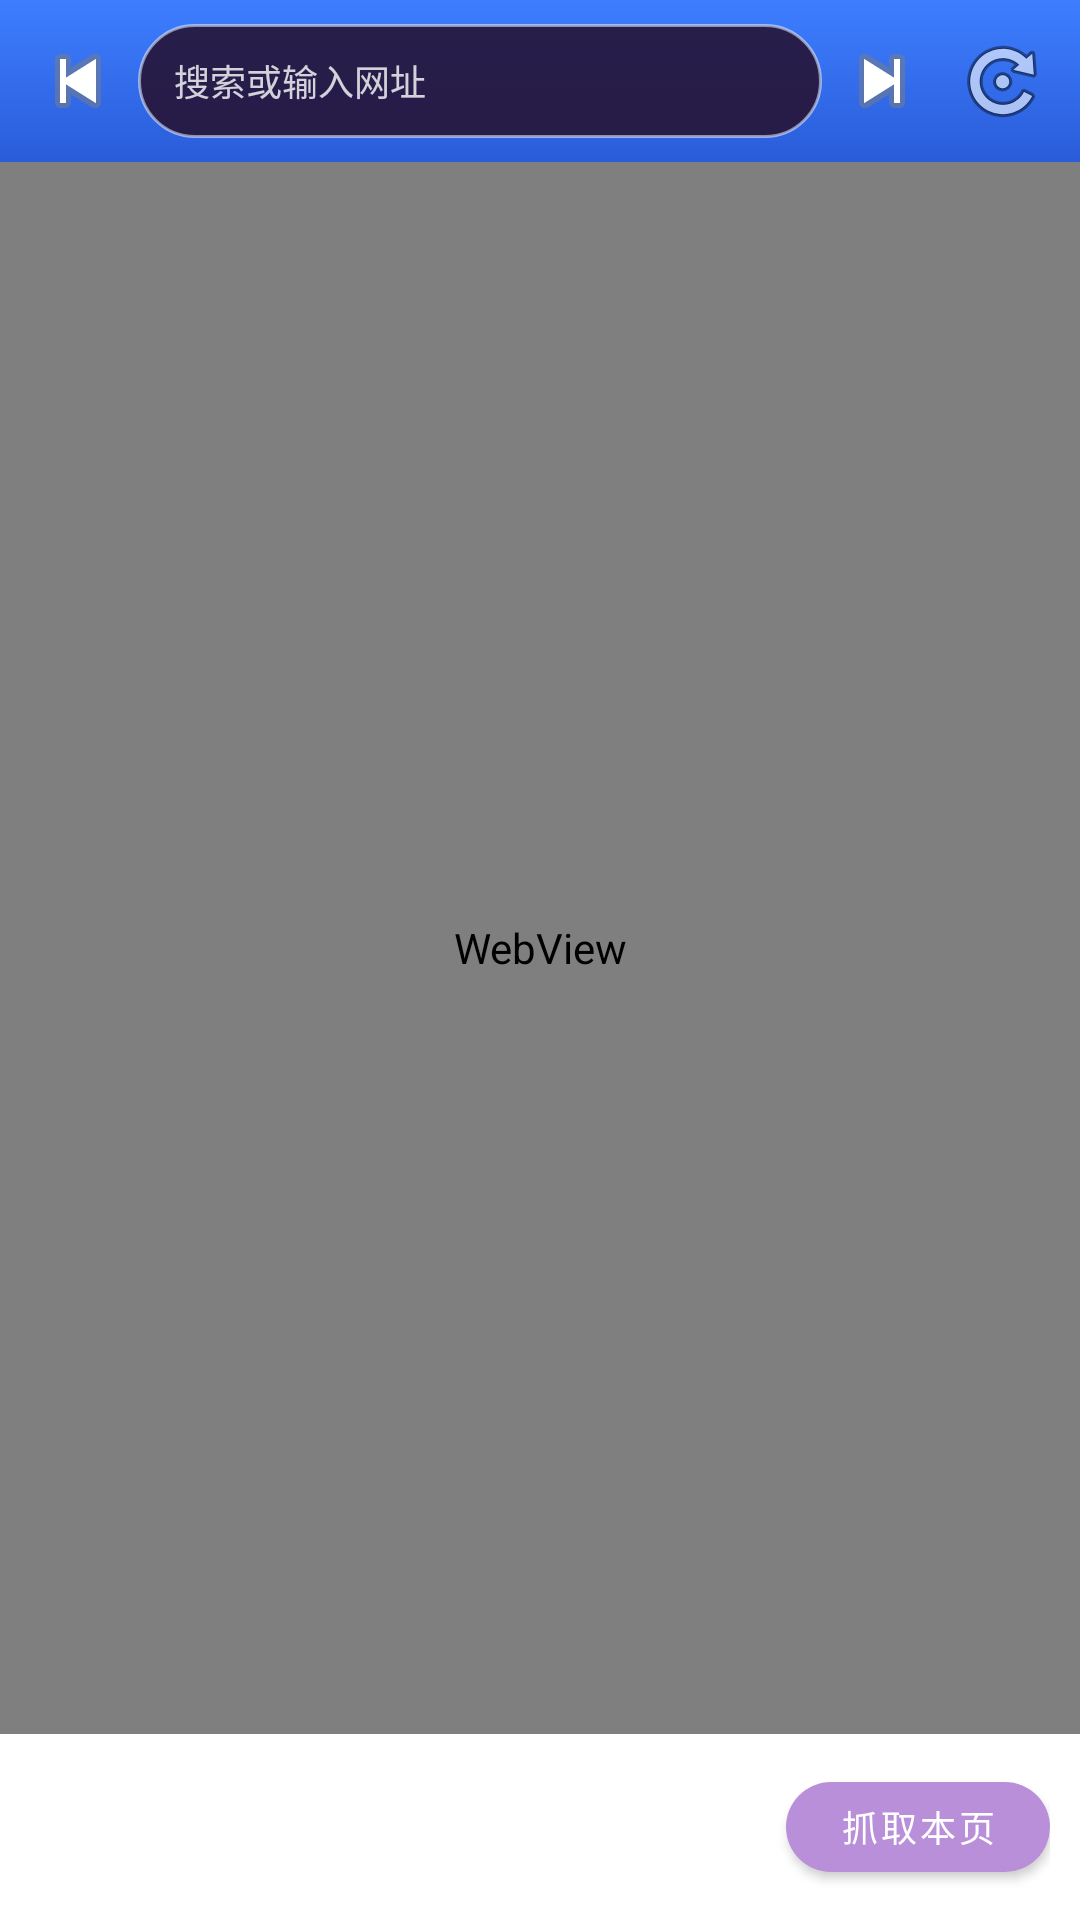

Named icons in this screenshot (1080 × 1920) and their bounding boxes, (x1, y1, x2, y2):
刷新: (967, 45, 1037, 118)
